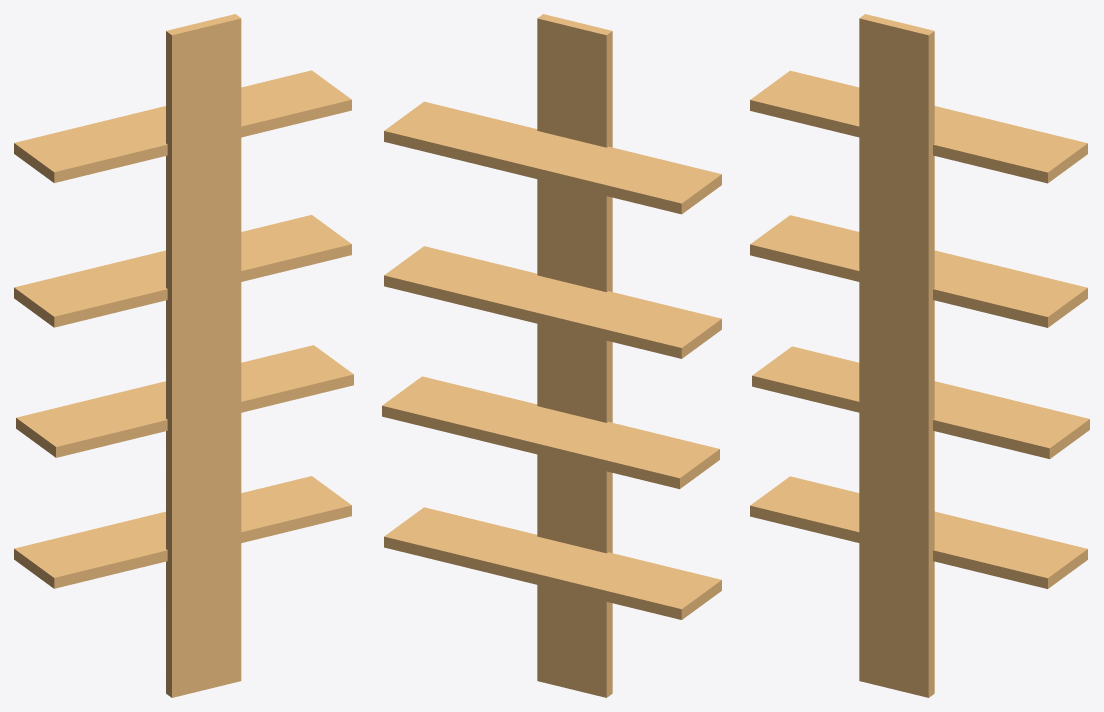
File: scene_othw59vyHQ.glb
The picture shows the model from 3 angles, left to right: view 1: azimuth 30°, elevation 25°; view 2: azimuth 150°, elevation 25°; view 3: azimuth 330°, elevation 25°; orthographic projection.
Parts seen in each view (by area): view 1: Node; view 2: Node; view 3: Node.
Boxes of the visible parts, box(x1,y1,x2,y2) form: Node: box(14, 14, 353, 697); Node: box(382, 14, 721, 697); Node: box(750, 14, 1089, 697).
Bounding box in the file's own units: 0.89 × 1.88 × 0.2284.
